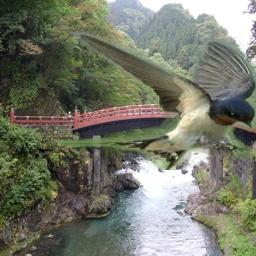Swallow: (58, 30, 256, 170)
